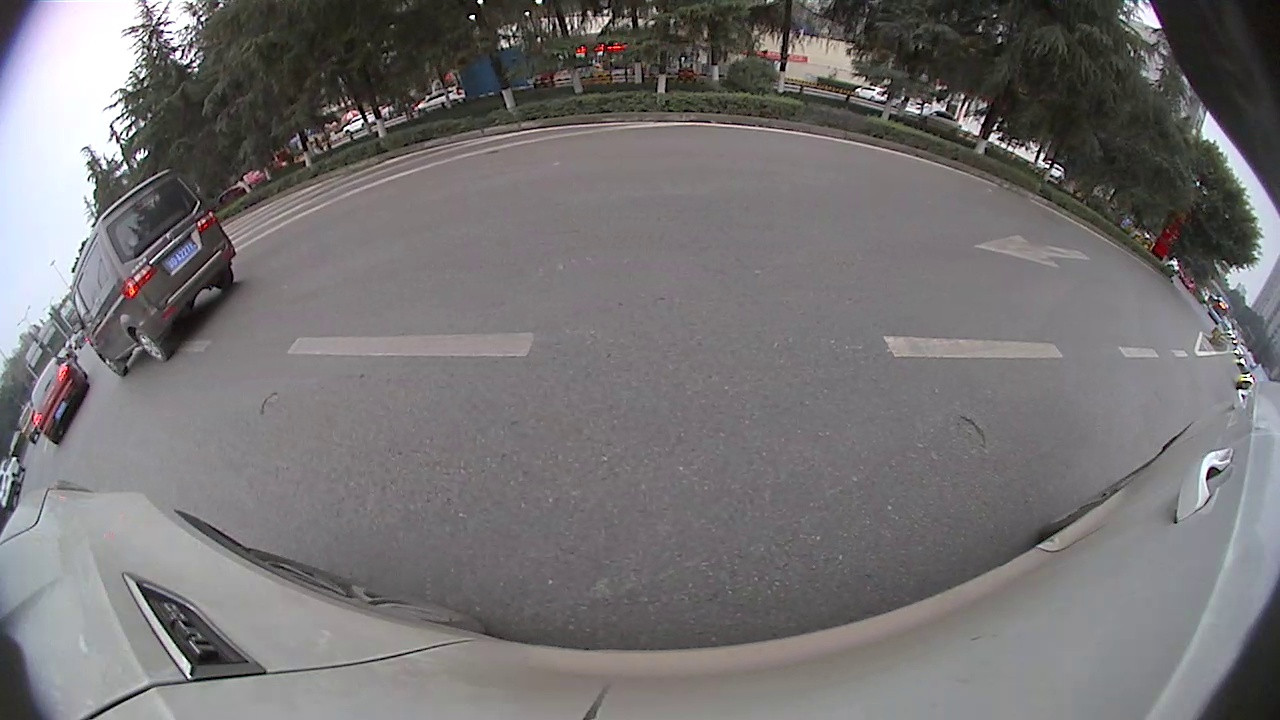car: (69, 165, 238, 376), (28, 352, 92, 449)
rear: (134, 325, 168, 363)
